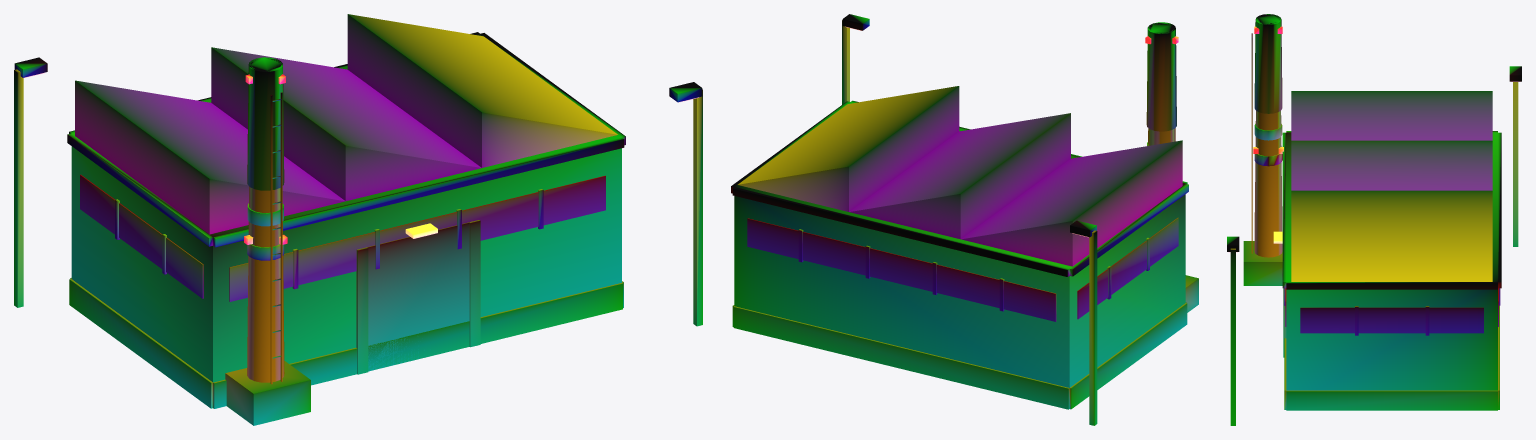
File: Ind_Shed.fbx
3 renders of one model, left to right at view 1: azimuth 30°, elevation 25°; view 2: azimuth 150°, elevation 25°; view 3: azimuth 270°, elevation 25°, orthographic. The views are drawn at different scales.
Visible parts, largest first — view 1: Ind_Shed_LOD0; view 2: Ind_Shed_LOD0; view 3: Ind_Shed_LOD0.
Boxes of the visible parts, bbox=[...] form: Ind_Shed_LOD0: bbox=[14, 14, 702, 425]; Ind_Shed_LOD0: bbox=[731, 14, 1198, 425]; Ind_Shed_LOD0: bbox=[1227, 14, 1521, 425].
Size of what is drawn, in the model's own units: 24.3 by 16 by 16.7.
